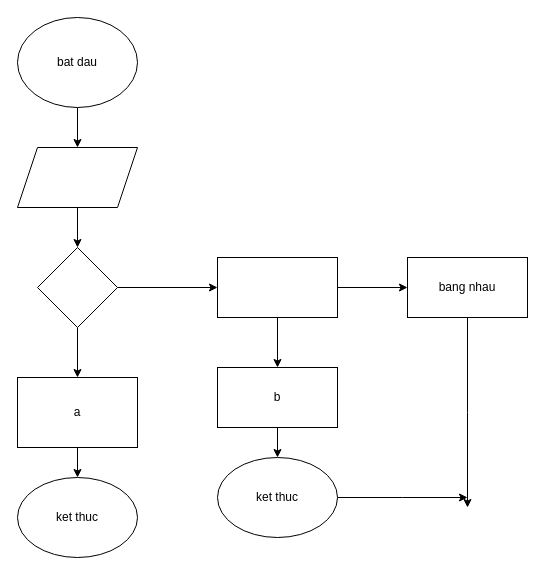
Image size: 545x575. Some labels were removed from this diagram. Each missing label, with the centre of its shape:
"a<b" goes at point (77, 287).
"b<a" goes at point (277, 287).
"nhap a va b" goes at point (77, 177).
